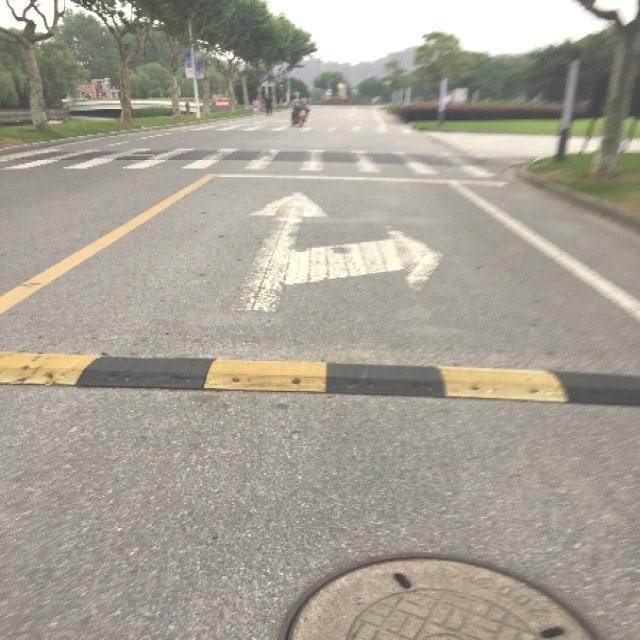Speed Bump: (6, 332, 640, 414)
